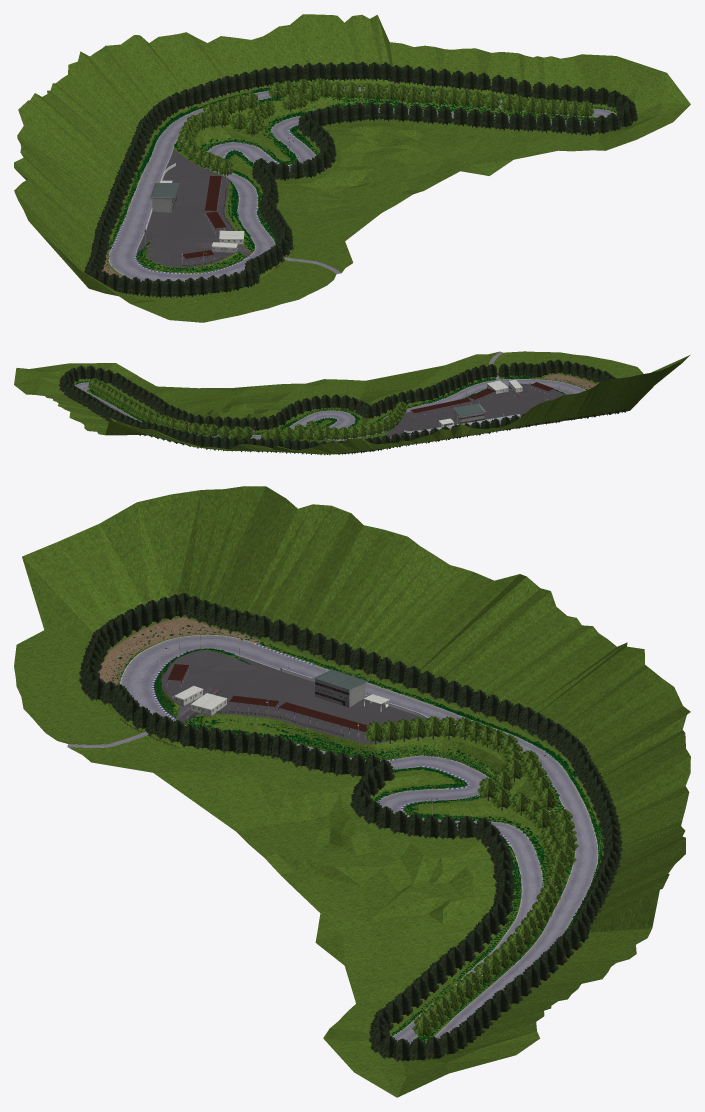
File: ebisu_kita.glb
3 views of the same model, one above another, from view 1: azimuth 30°, elevation 25°; view 2: azimuth 150°, elevation 25°; view 3: azimuth 270°, elevation 25° (orthographic). The views are drawn at different scales.
Parts seen in each view (by area): view 1: col_76, col_28, col_85, col_48, vis_82, col_6, col_0, vis_90, vis_44, col_73, vis_83, vis_23 (+24 smaller); view 2: col_76, col_6, vis_82, col_48, col_85, vis_71, vis_44, col_28, vis_90, vis_45, col_84, vis_83 (+24 smaller); view 3: col_6, col_28, col_76, col_48, col_0, col_85, vis_82, vis_44, col_84, vis_23, vis_71, vis_45 (+23 smaller).
Boxes of the visible parts, box(x1,y1,x2,y2) form: col_76: box(208, 14, 557, 172); col_28: box(33, 33, 337, 200); col_85: box(445, 48, 690, 152); col_48: box(211, 171, 381, 293); vis_82: box(240, 61, 509, 162); col_6: box(14, 147, 254, 321); col_0: box(17, 93, 130, 219); vis_90: box(463, 71, 637, 136); vis_44: box(115, 74, 331, 190); col_73: box(208, 14, 342, 81); vis_83: box(260, 78, 486, 118); vis_23: box(84, 196, 243, 297); col_76: box(84, 386, 321, 449); col_6: box(520, 355, 689, 427); vis_82: box(111, 392, 322, 451); col_48: box(346, 351, 559, 412); col_85: box(14, 363, 178, 425); vis_71: box(384, 359, 563, 410); vis_44: box(248, 394, 471, 455); col_28: box(234, 407, 453, 454); vis_90: box(59, 365, 149, 421); vis_45: box(269, 401, 407, 441); col_84: box(198, 379, 365, 400); vis_83: box(128, 402, 270, 439); col_6: box(17, 486, 405, 692); col_28: box(341, 589, 689, 829); col_76: box(333, 787, 686, 1003); col_48: box(34, 684, 357, 842); col_0: box(319, 529, 556, 691); col_85: box(339, 963, 615, 1097); vis_82: box(375, 799, 622, 984); vis_44: box(348, 661, 612, 830); col_84: box(237, 825, 371, 965); vis_23: box(78, 593, 353, 685); vis_71: box(81, 672, 350, 776); vis_45: box(364, 716, 559, 820).
Size of the model in its own units: 442 by 74.24 by 278.
32 materials, 32 textured.
